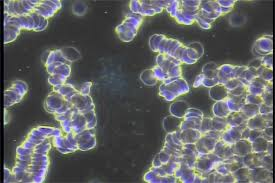Malaria: (185, 41, 205, 62), (256, 36, 273, 54)
